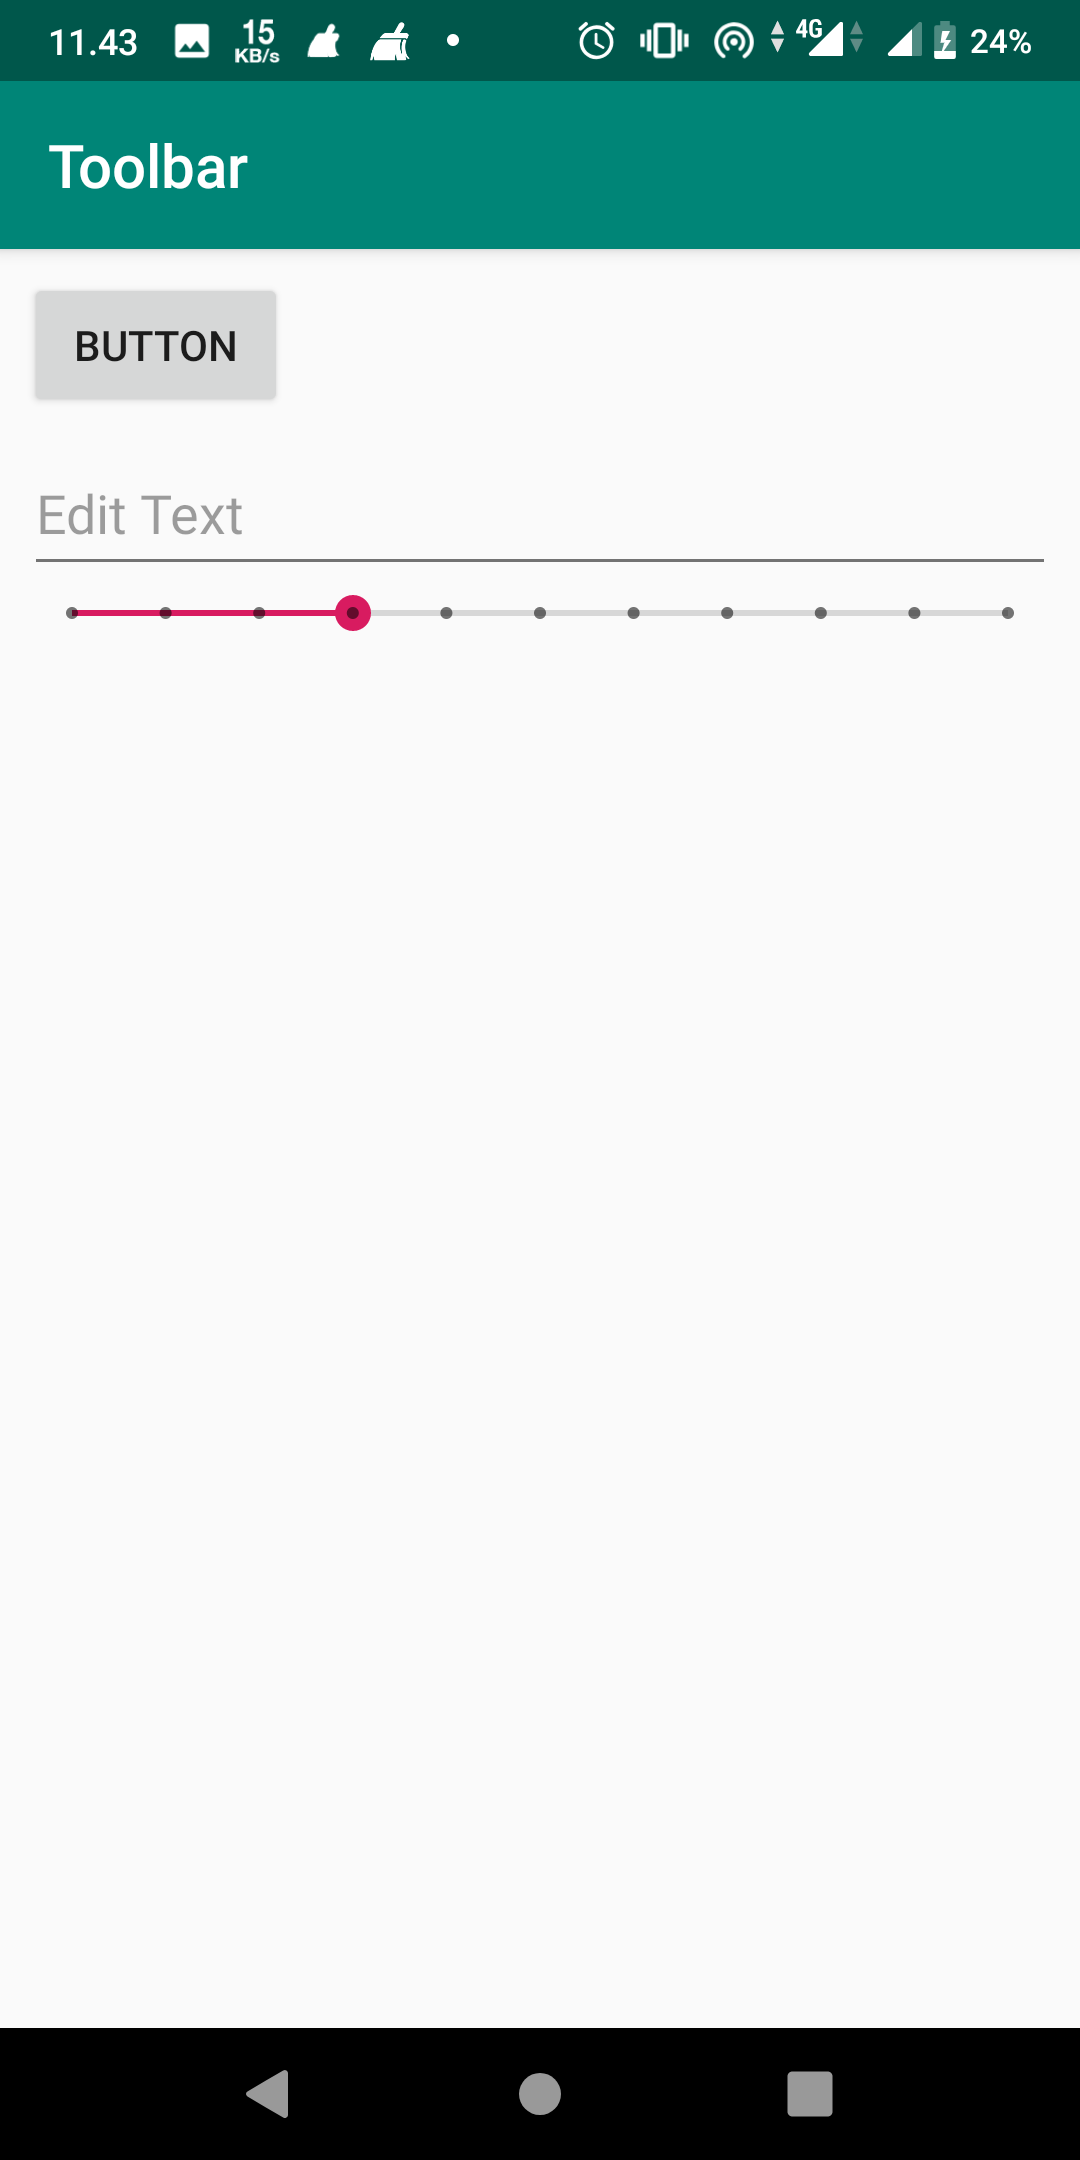button: (25, 280, 291, 412)
editText: (19, 484, 1061, 583)
slider: (48, 592, 1028, 643)
toolbar: (3, 83, 1080, 252)
